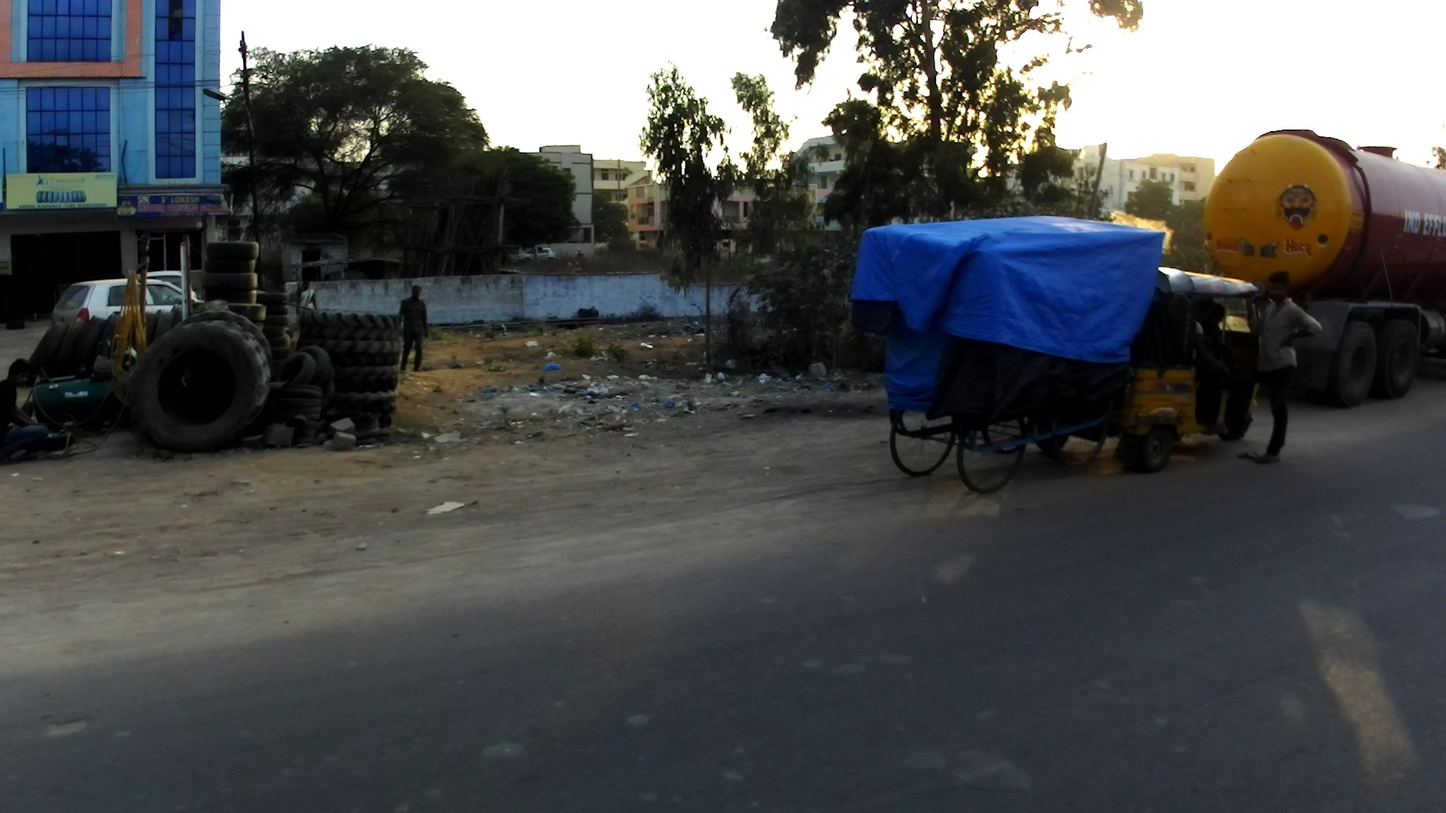autorickshaw: (1121, 265, 1265, 475)
car: (42, 277, 198, 326), (142, 268, 195, 301)
person: (1252, 269, 1325, 469), (2, 355, 53, 462), (398, 279, 434, 382), (293, 271, 321, 311)
truck: (1200, 128, 1443, 411)
vehicle fallback: (846, 215, 1174, 502)
